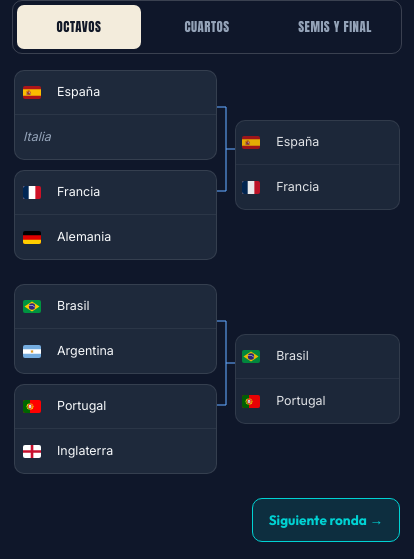
Test: MobileBracket › navigates with the dedicated buttons
Click the button "Siguiente ronda →" at (326, 520), box [252,498,400,542]
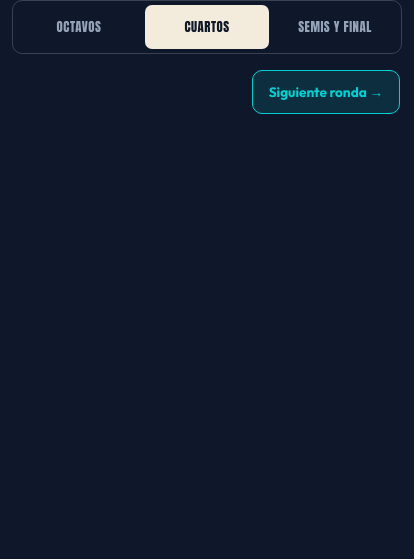
Now the tab "Cuartos" is selected, box [145,5,269,49]
Click the button "Siguiente ronda →" at (326, 92), box [252,70,400,114]
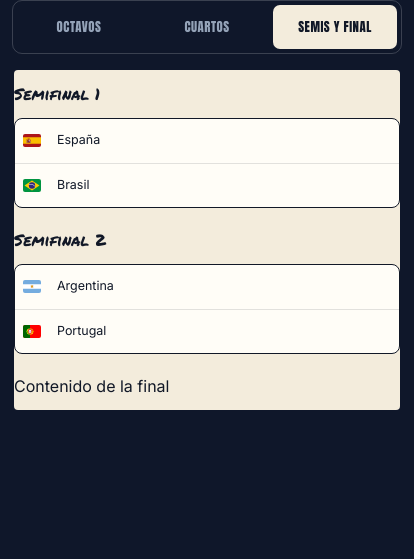
Now the text "Contenido de la final" is shown, box [14,376,170,396]
